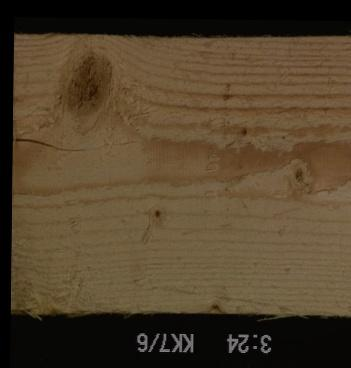small_knot: (289, 163, 309, 189), (206, 302, 224, 314), (152, 208, 162, 220)
sound_knot: (64, 52, 114, 120)
split: (11, 138, 84, 154)
